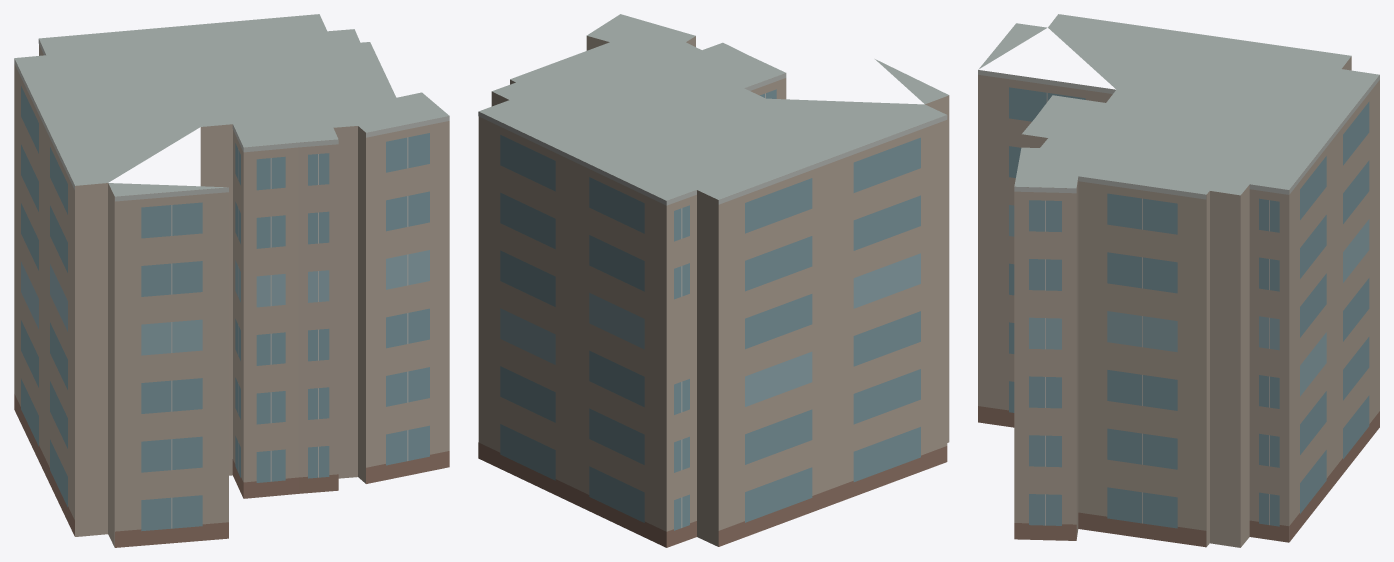
File: survey-upis-32970629.glb
3 renders of one model, left to right at view 1: azimuth 30°, elevation 25°; view 2: azimuth 150°, elevation 25°; view 3: azimuth 270°, elevation 25°, orthographic.
Visible parts, largest first — view 1: survey-upis-32970629.tmp; view 2: survey-upis-32970629.tmp; view 3: survey-upis-32970629.tmp.
Part boxes in pixels (box(x1,y1,x2,y2)): survey-upis-32970629.tmp: box(14, 14, 449, 547); survey-upis-32970629.tmp: box(478, 14, 949, 547); survey-upis-32970629.tmp: box(978, 14, 1379, 547).
Size of the model in its own units: 19.37 by 17.55 by 18.13.
